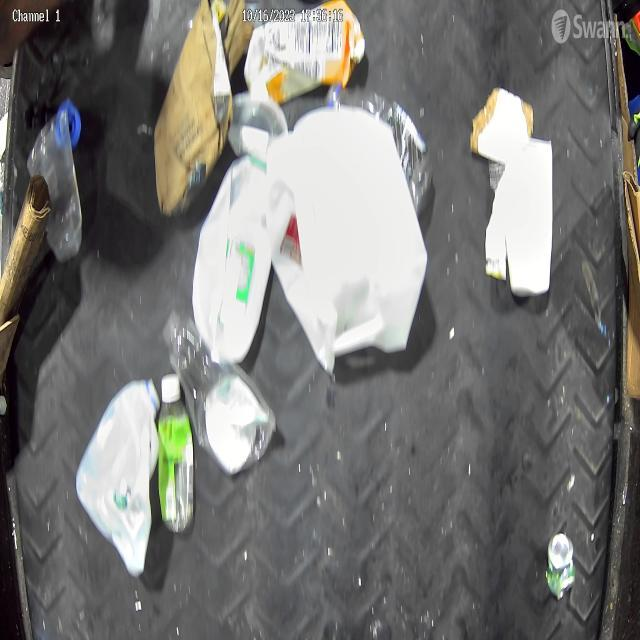can: (545, 526, 578, 600)
milk_jug: (280, 115, 422, 372)
plastic_bottle: (168, 310, 270, 470)
